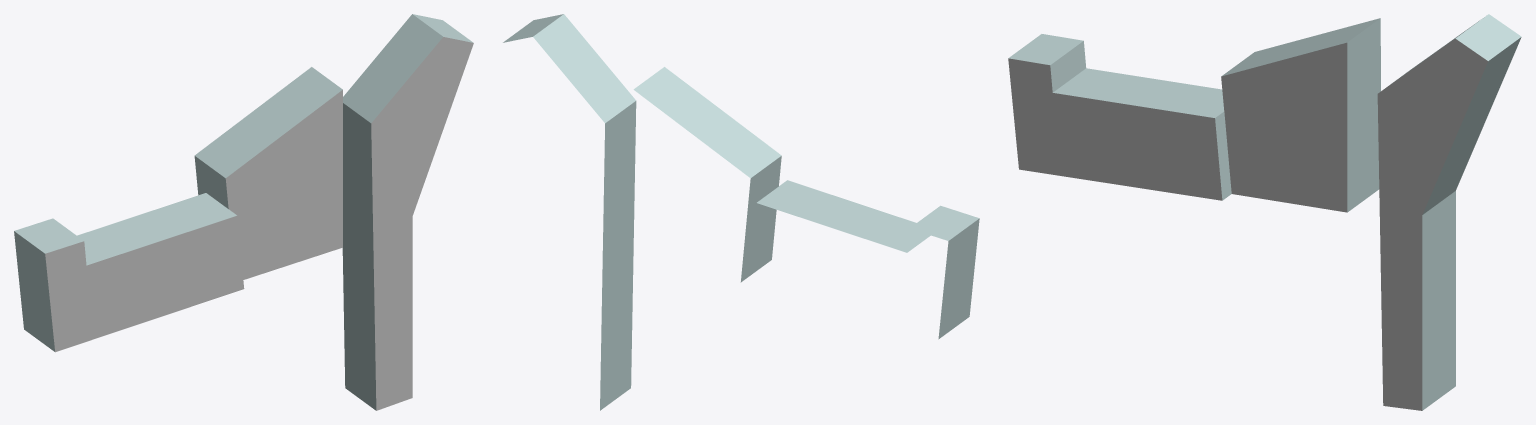
3 renders of one model, left to right at view 1: azimuth 30°, elevation 25°; view 2: azimuth 150°, elevation 25°; view 3: azimuth 330°, elevation 25°, orthographic. The views are drawn at different scales.
Parts seen in each view (by area): view 1: 0_1_1_2_3_1_3_2_0; view 2: 0_1_1_2_3_1_3_2_0; view 3: 0_1_1_2_3_1_3_2_0.
Part boxes in pixels (bbox=[...]): 0_1_1_2_3_1_3_2_0: bbox=[14, 14, 473, 410]; 0_1_1_2_3_1_3_2_0: bbox=[503, 14, 979, 410]; 0_1_1_2_3_1_3_2_0: bbox=[1008, 14, 1521, 410].
Bounding box in the file's own units: 24.3 × 18.99 × 3.83.
